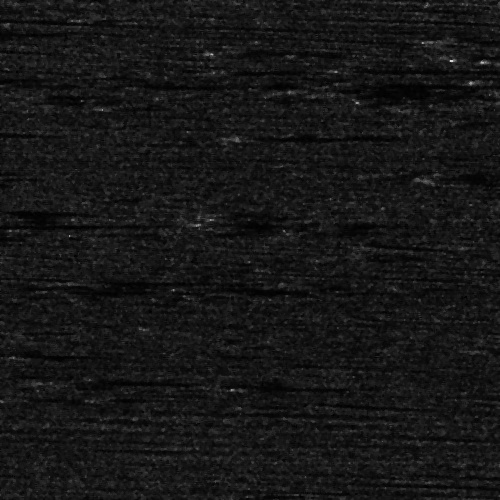object: (45, 279, 98, 284), (467, 345, 488, 354)
shadow: (0, 221, 138, 228), (72, 279, 214, 284), (0, 215, 91, 218), (478, 345, 500, 354)
